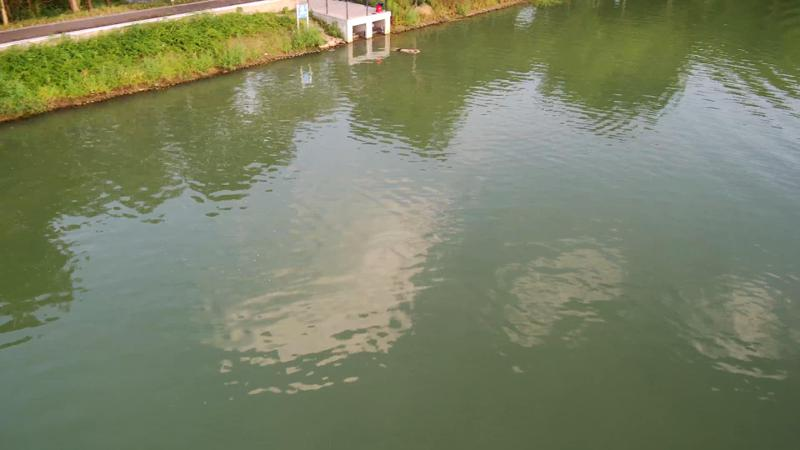swimmers: (390, 46, 421, 55)
